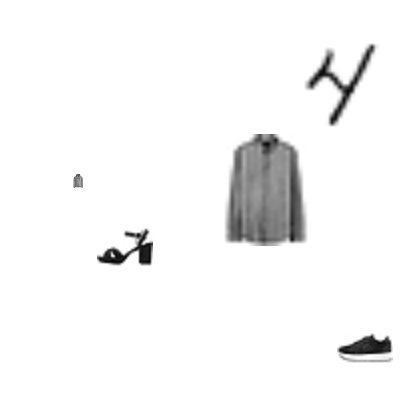4: (282, 25, 394, 137)
Coat: (71, 174, 85, 188)
Sandal: (97, 219, 153, 275)
Shirt: (210, 134, 322, 246)
Sneaker: (337, 320, 393, 376)
